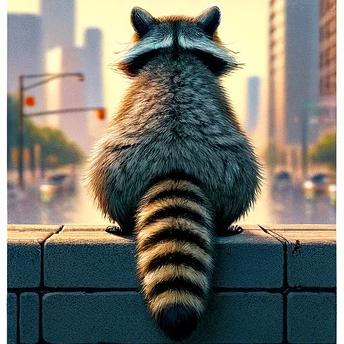raccoon: (71, 1, 278, 344)
